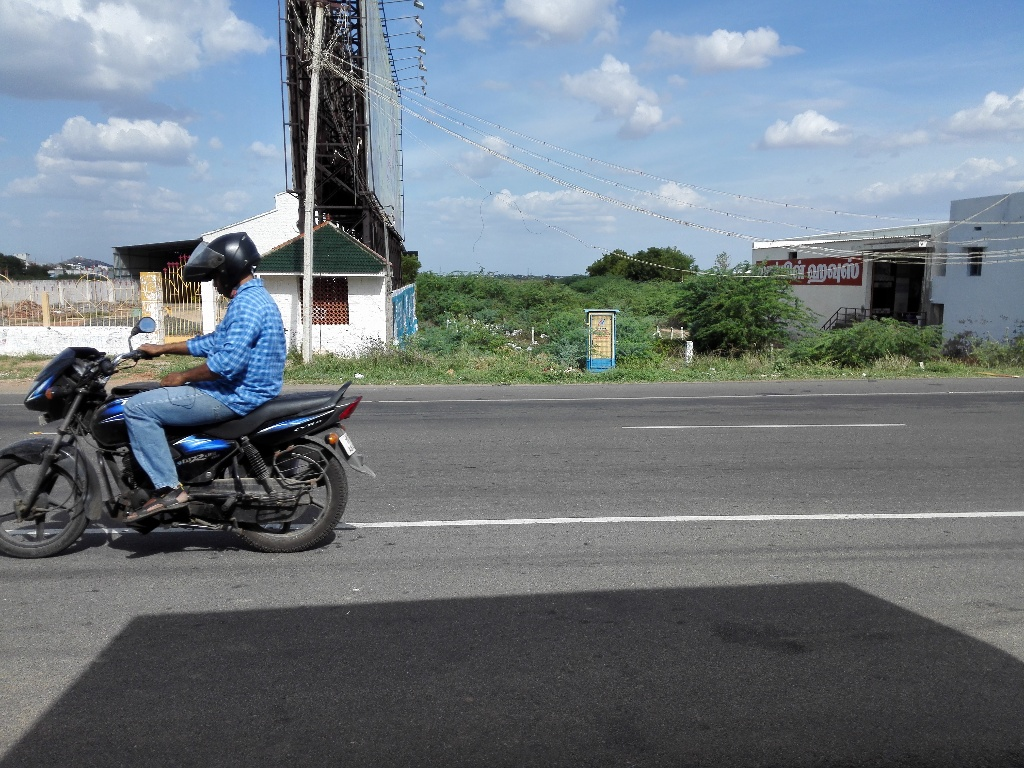biker: (1, 185, 380, 570)
helmet: (170, 221, 278, 321)
